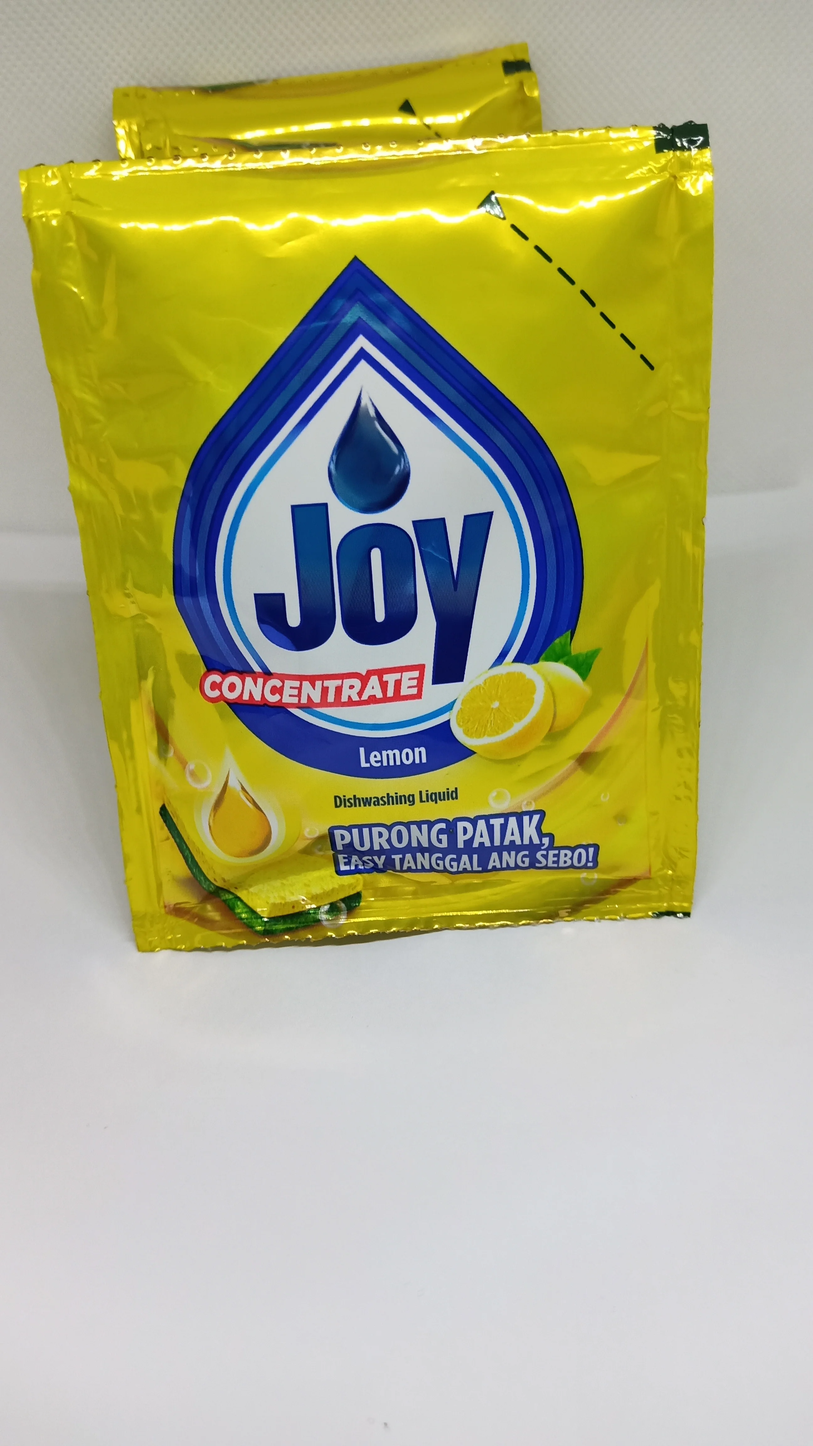toxic_waste: (34, 58, 745, 949)
